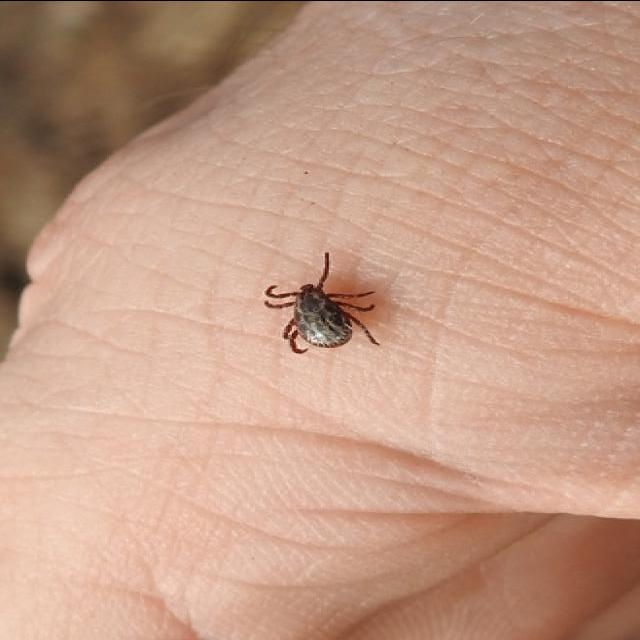Dermacentor Reticulatus-M: (265, 251, 381, 353)
